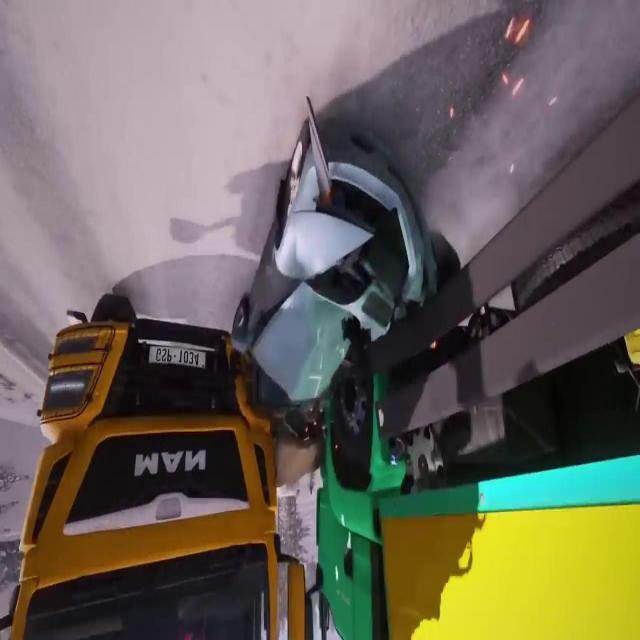severe: (3, 90, 640, 639)
